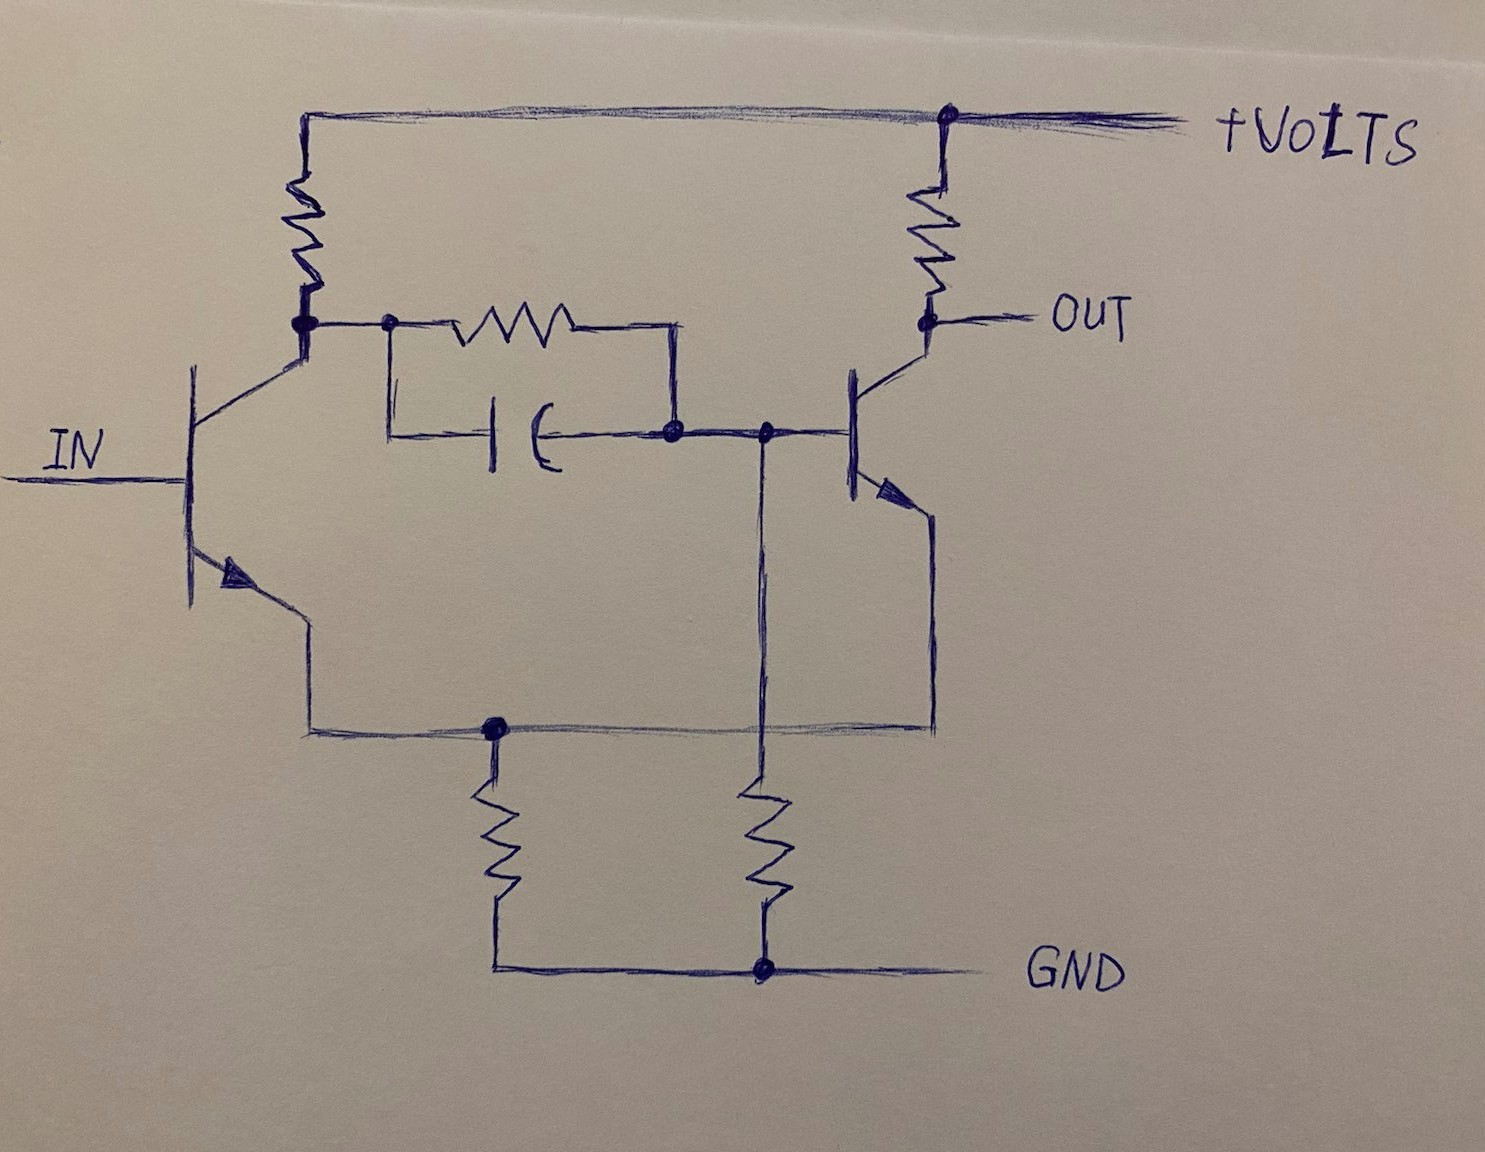capacitor.unpolarized: (476, 390, 574, 489)
crossover: (736, 705, 786, 747)
junction: (732, 944, 802, 997), (464, 705, 526, 754), (736, 409, 788, 466), (911, 704, 962, 752), (928, 92, 973, 142), (281, 705, 328, 752), (646, 409, 697, 452), (369, 415, 411, 460), (366, 298, 407, 343), (278, 302, 328, 340), (474, 947, 518, 987), (289, 98, 335, 136), (652, 308, 689, 348), (912, 302, 951, 339)
resistor: (732, 772, 806, 919), (463, 776, 534, 922), (435, 298, 592, 355), (904, 176, 963, 301), (277, 165, 328, 296)
terminal: (1087, 99, 1204, 145), (922, 950, 1000, 991), (984, 299, 1044, 331), (2, 469, 55, 499)
text: (1254, 100, 1427, 169), (1025, 939, 1128, 997), (1047, 290, 1135, 345), (45, 423, 102, 472), (1213, 102, 1249, 155)
transistor: (168, 355, 334, 627), (839, 351, 972, 527)
